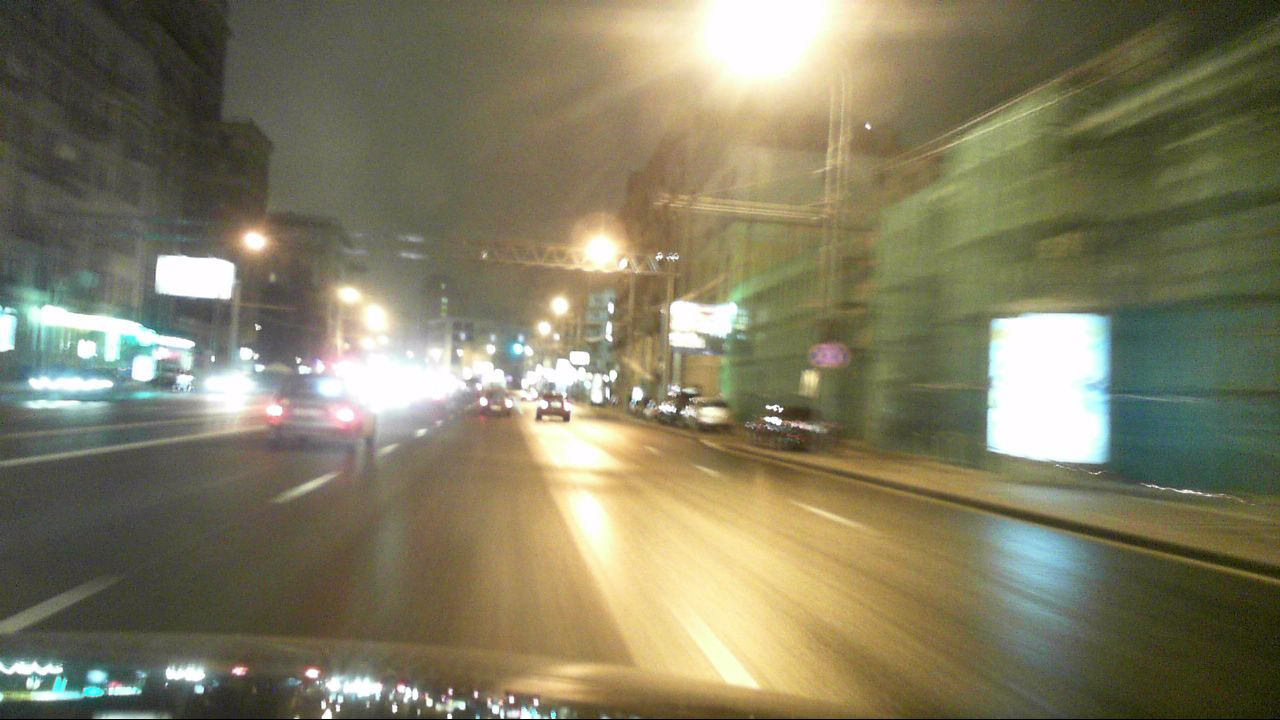No Parking: (807, 343, 831, 367)
